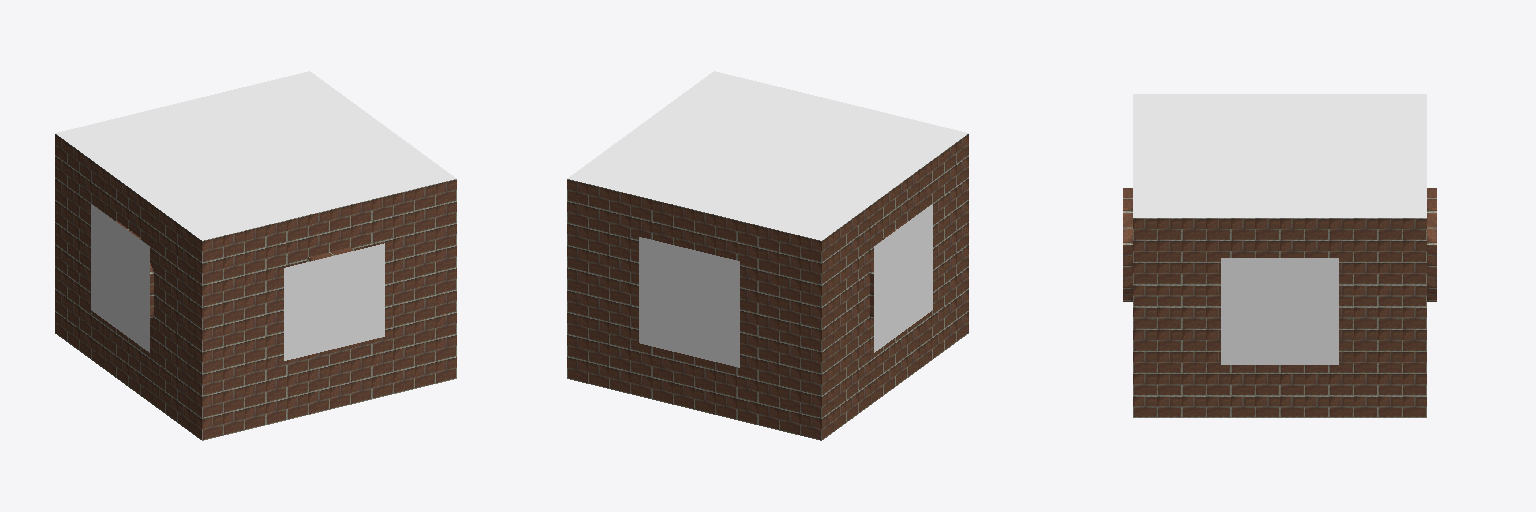
3 renders of one model, left to right at view 1: azimuth 30°, elevation 25°; view 2: azimuth 150°, elevation 25°; view 3: azimuth 270°, elevation 25°, orthographic.
Parts seen in each view (by area): view 1: r0; view 2: r0; view 3: r0.
Boxes of the visible parts, x1=… form: r0: x1=55, y1=71, x2=456, y2=440; r0: x1=567, y1=71, x2=968, y2=440; r0: x1=1123, y1=94, x2=1436, y2=417.
Size of the model in its own units: 6.4 by 4.5 by 6.4.
Materials: 4 (2 with a texture image).